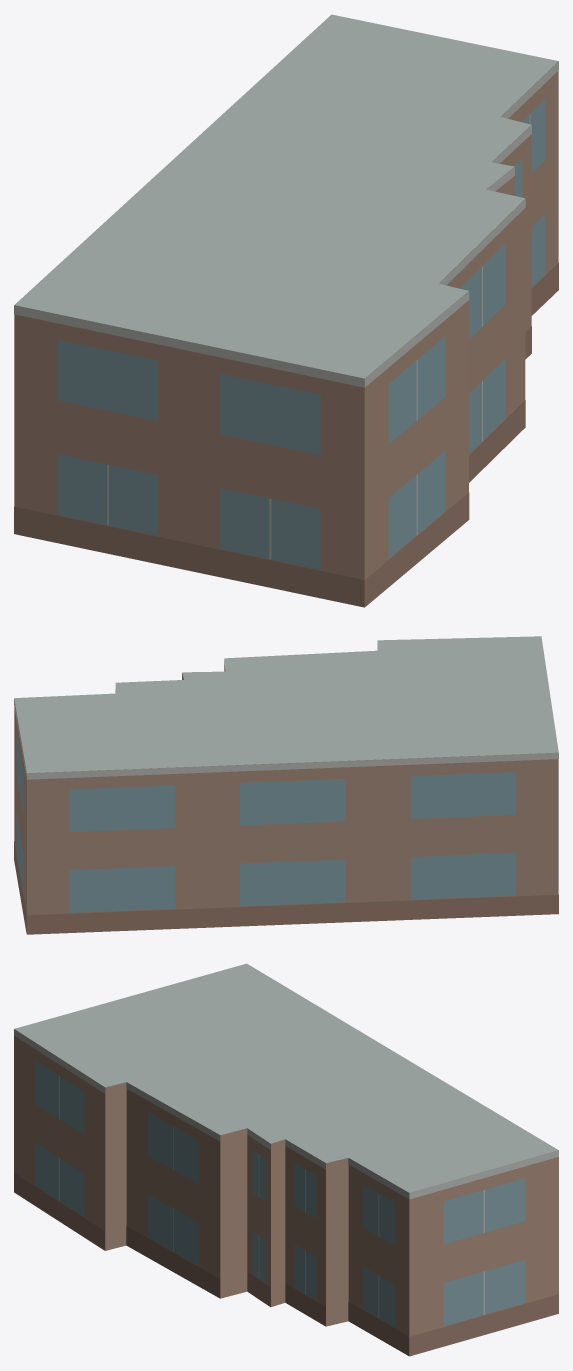
The model's file is survey-upis-32919504.glb.
3 views of the same model, one above another, from view 1: azimuth 30°, elevation 25°; view 2: azimuth 150°, elevation 25°; view 3: azimuth 270°, elevation 25° (orthographic). The views are drawn at different scales.
Parts seen in each view (by area): view 1: survey-upis-32919504.tmp; view 2: survey-upis-32919504.tmp; view 3: survey-upis-32919504.tmp.
Part boxes in pixels (bbox=[...]): survey-upis-32919504.tmp: bbox=[14, 14, 558, 607]; survey-upis-32919504.tmp: bbox=[14, 636, 558, 934]; survey-upis-32919504.tmp: bbox=[14, 963, 558, 1356].
Bounding box in the file's own units: 18.37 × 6.1 × 18.43.
